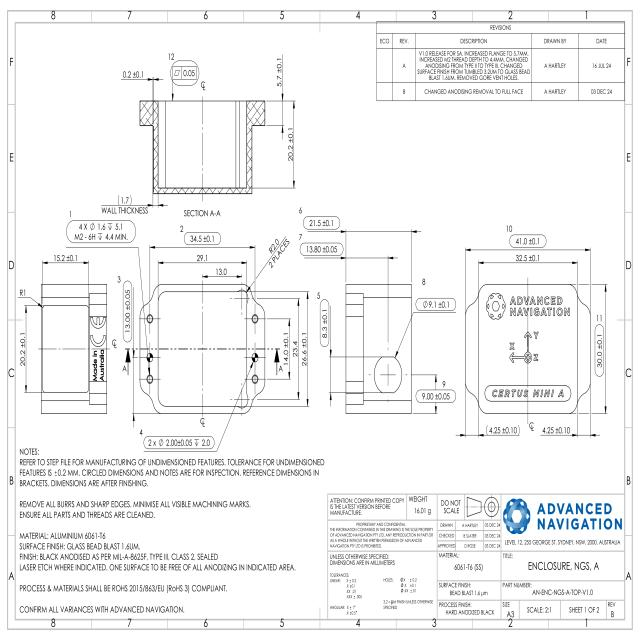dimension: (66, 220, 136, 242), (101, 193, 148, 215), (143, 436, 214, 450), (266, 233, 292, 269), (123, 280, 133, 342), (415, 389, 456, 403), (300, 243, 343, 256), (416, 298, 456, 311), (184, 231, 221, 245), (303, 216, 340, 230), (509, 234, 546, 248), (320, 299, 330, 347), (595, 324, 604, 377), (485, 424, 521, 435), (541, 425, 571, 435), (18, 331, 26, 368), (122, 68, 144, 80), (52, 252, 78, 262), (287, 125, 294, 162), (514, 253, 542, 262), (283, 331, 289, 367), (301, 332, 307, 367), (276, 55, 282, 88), (215, 266, 228, 276), (196, 253, 209, 262), (292, 340, 298, 358), (19, 288, 28, 298)
